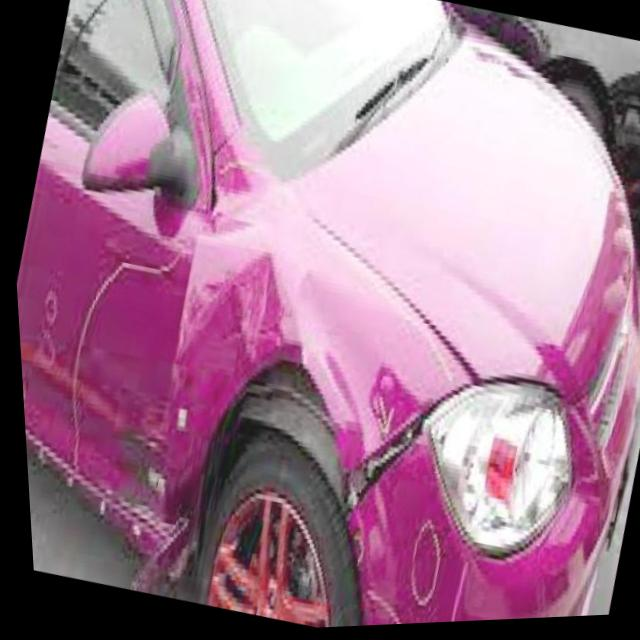Car-Damage: (62, 200, 564, 638), (147, 72, 274, 231)
